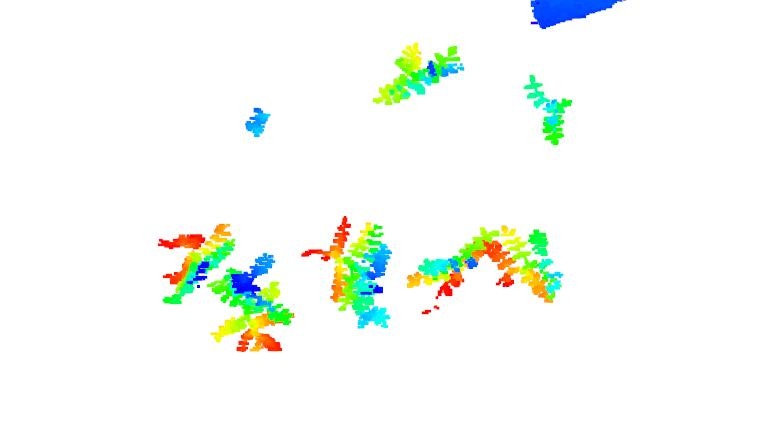chickpea: (302, 217, 393, 327), (403, 224, 493, 315), (212, 255, 295, 353), (491, 222, 570, 310), (155, 221, 238, 303), (370, 41, 470, 106), (525, 74, 575, 144), (243, 106, 276, 138)
